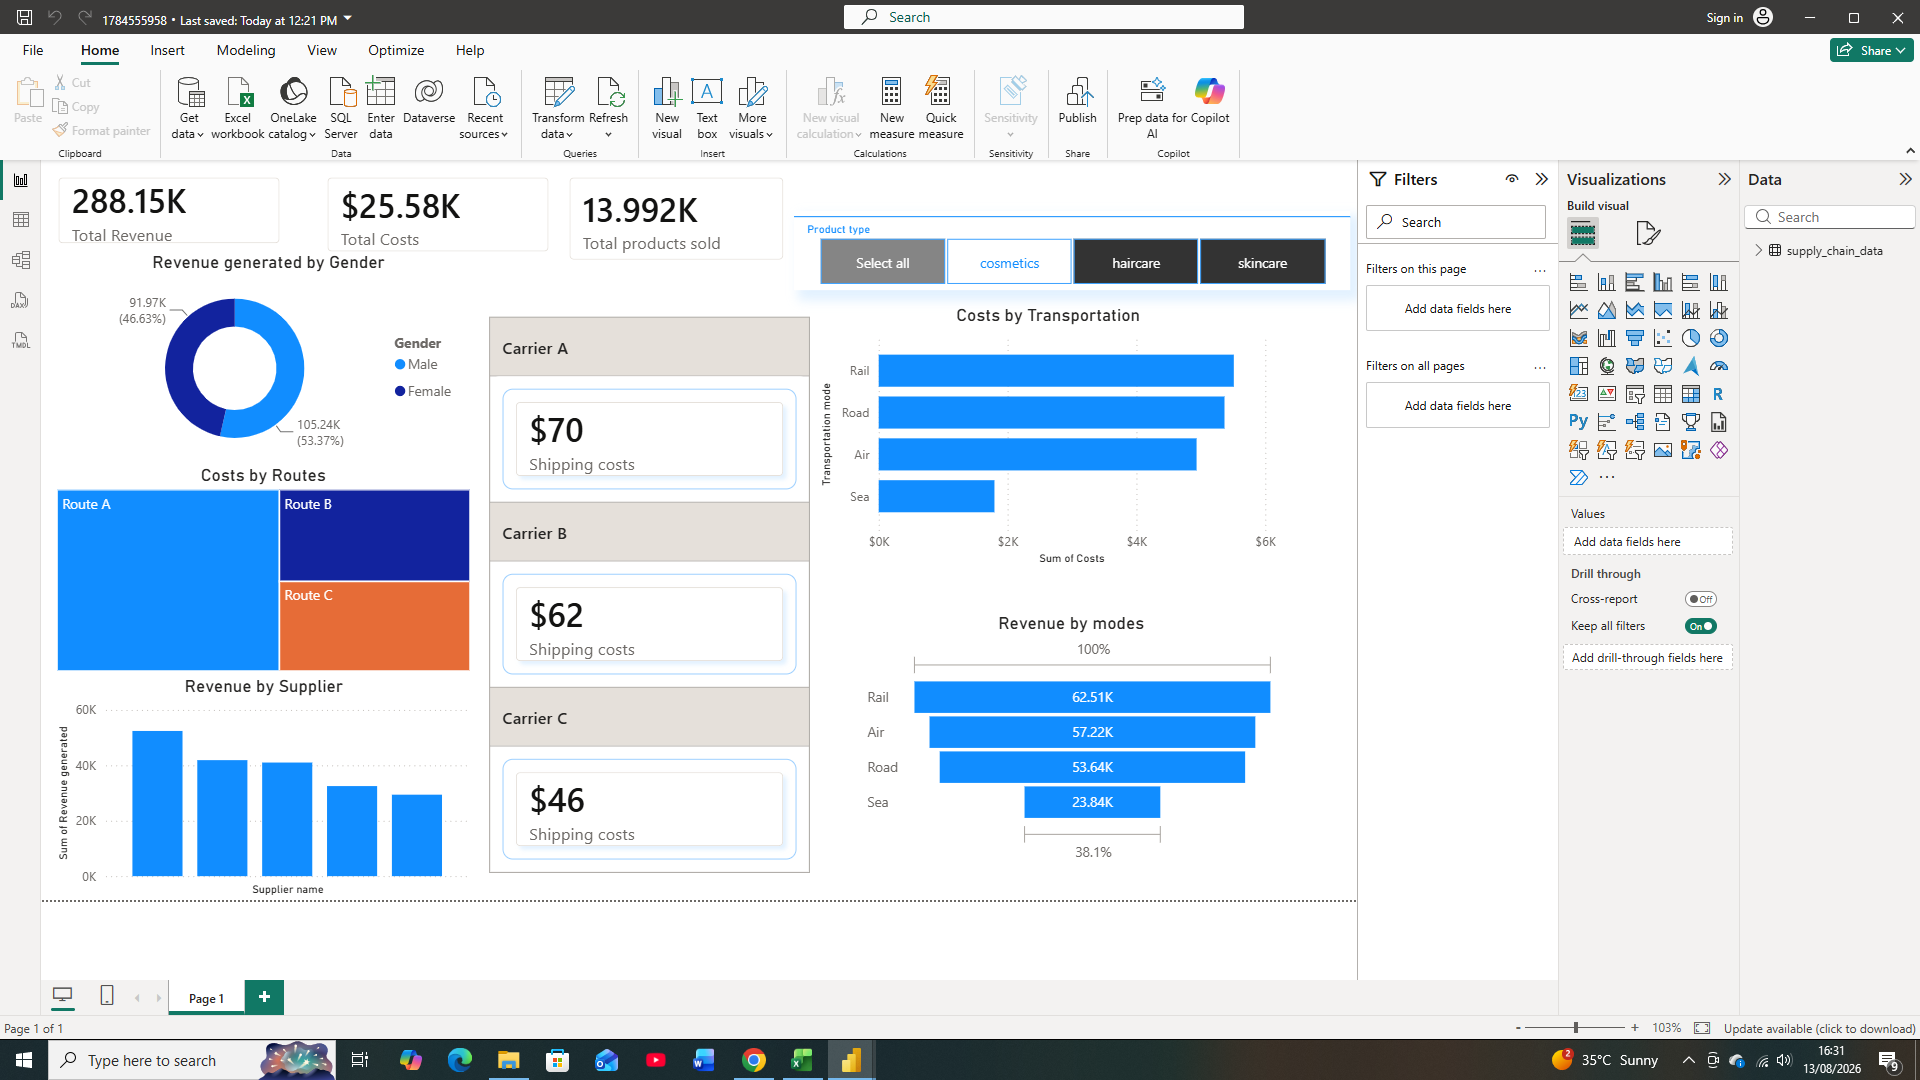

The page's visual inventory and layout, read from the dashboard file:
{"tool":"powerbi","page":{"name":"Page 1","canvas":[1280,720],"ordinal":0},"visuals":[{"type":"cardVisual","fields":{"Data":["Sum(supply_chain_data.Revenue generated)"]},"box":[0,0,250,98.9],"z":0},{"type":"cardVisual","fields":{"Data":["Sum(supply_chain_data.Costs)"]},"box":[261.4,0,250,106.2],"z":1},{"type":"cardVisual","fields":{"Data":["Sum(supply_chain_data.Number of products sold)"]},"box":[496.8,0,242.7,114.6],"z":2},{"type":"cardVisual","fields":{"Rows":["supply_chain_data.Shipping carriers"],"Data":["Sum(supply_chain_data.Shipping costs)"]},"box":[431.2,127.1,322.9,592.6],"z":3},{"type":"barChart","title":" Costs by Transportation","fields":{"Y":["Sum(supply_chain_data.Costs)"],"Category":["supply_chain_data.Transportation modes"]},"box":[754,140.6,452,257.2],"z":4},{"type":"treemap","title":" Costs by Routes","fields":{"Values":["Sum(supply_chain_data.Costs)"],"Group":["supply_chain_data.Routes"]},"box":[10.4,296.8,411.4,205.2],"z":5},{"type":"donutChart","title":" Revenue generated by Gender","fields":{"Y":["Sum(supply_chain_data.Revenue generated)"],"Category":["supply_chain_data.Gender"]},"box":[28.1,89.6,386.4,207.3],"z":6},{"type":"funnel","title":" Revenue by modes","fields":{"Y":["Sum(supply_chain_data.Revenue generated)"],"Category":["supply_chain_data.Transportation modes"]},"box":[798.8,440.6,407.2,246.8],"z":7},{"type":"columnChart","title":"Revenue  by Supplier ","fields":{"Category":["supply_chain_data.Supplier name"],"Y":["Sum(supply_chain_data.Revenue generated)"]},"box":[11.5,502,410.3,217.7],"z":8},{"type":"slicer","fields":{"Values":["supply_chain_data.Product type"]},"box":[732.2,50,540.5,77.1],"z":9}]}

Visuals, with their boxes on the page's 1280x720 design canvas (x1, y1, x2, y2). These are canvas units, not pixel positions in the 1920x1080 screenshot, which may show the page scaled, cropped or inside an application window:
cardVisual - Sum(supply_chain_data.Revenue generated): {"left": 0, "top": 0, "right": 250, "bottom": 99}
cardVisual - Sum(supply_chain_data.Costs): {"left": 261, "top": 0, "right": 511, "bottom": 106}
cardVisual - Sum(supply_chain_data.Number of products sold): {"left": 497, "top": 0, "right": 740, "bottom": 115}
cardVisual - supply_chain_data.Shipping carriers x Sum(supply_chain_data.Shipping costs): {"left": 431, "top": 127, "right": 754, "bottom": 720}
" Costs by Transportation" barChart: {"left": 754, "top": 141, "right": 1206, "bottom": 398}
" Costs by Routes" treemap: {"left": 10, "top": 297, "right": 422, "bottom": 502}
" Revenue generated by Gender" donutChart: {"left": 28, "top": 90, "right": 414, "bottom": 297}
" Revenue by modes" funnel: {"left": 799, "top": 441, "right": 1206, "bottom": 687}
"Revenue  by Supplier " columnChart: {"left": 12, "top": 502, "right": 422, "bottom": 720}
slicer - supply_chain_data.Product type: {"left": 732, "top": 50, "right": 1273, "bottom": 127}
